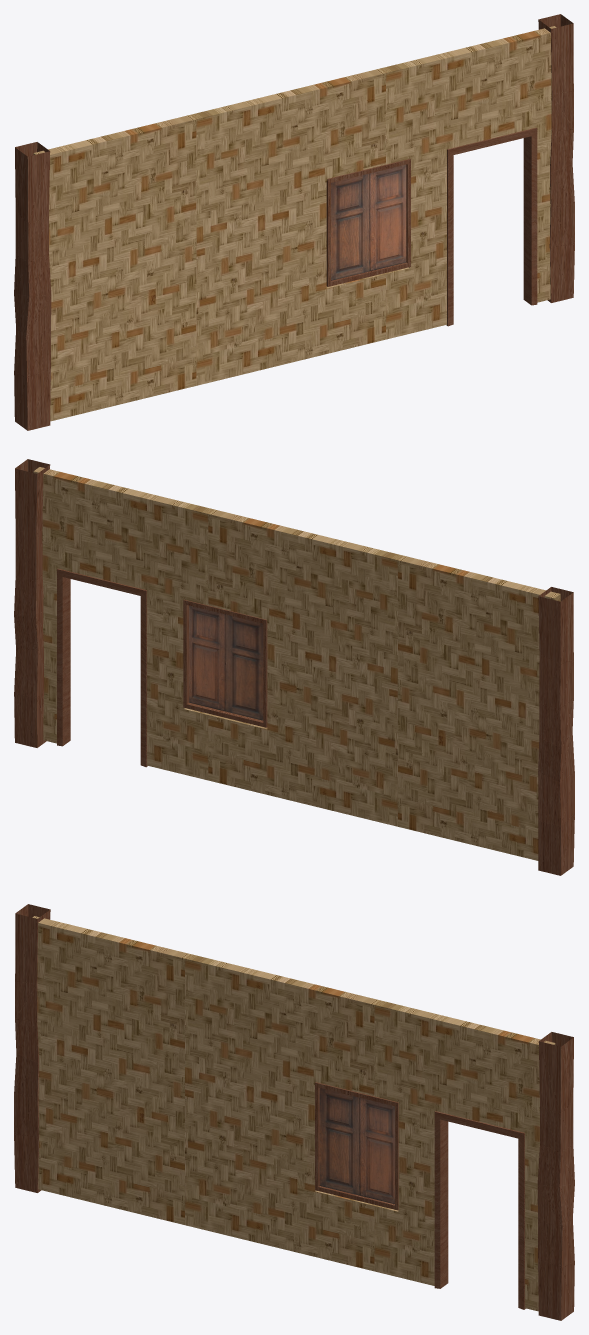
File: R2_Depan.fbx
3 renders of one model, top to bottom at view 1: azimuth 30°, elevation 25°; view 2: azimuth 150°, elevation 25°; view 3: azimuth 330°, elevation 25°, orthographic.
Visible parts, largest first — view 1: Cube.177; view 2: Cube.177; view 3: Cube.177.
Part boxes in pixels (bbox=[...]): Cube.177: bbox=[14, 14, 574, 430]; Cube.177: bbox=[14, 459, 574, 875]; Cube.177: bbox=[14, 904, 574, 1320].
Size of the model in its own units: 15.47 by 7.39 by 0.6641.
Materials: 3 (3 with a texture image).
